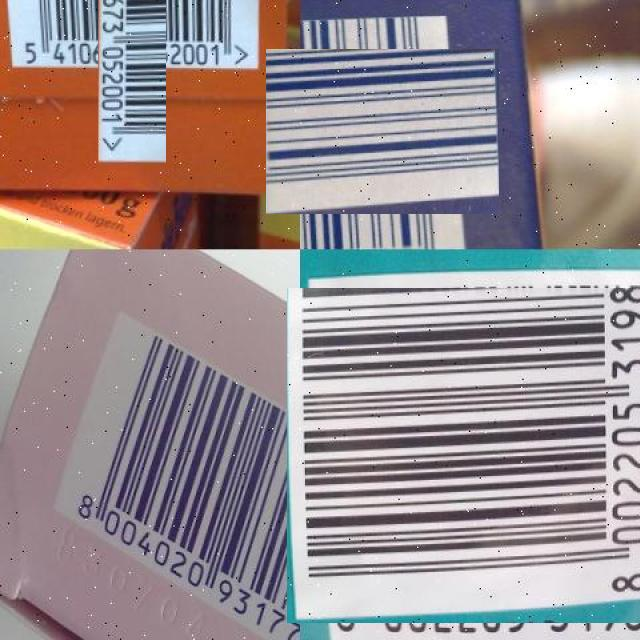Barcode: (295, 278, 640, 631), (40, 312, 300, 640), (283, 32, 482, 232), (48, 0, 215, 117)
